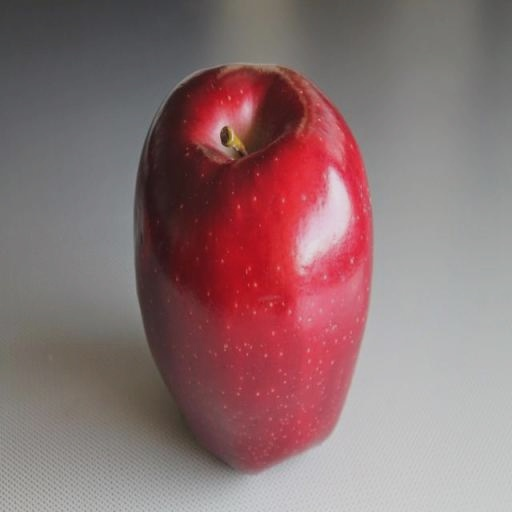fruit: (135, 65, 371, 471)
